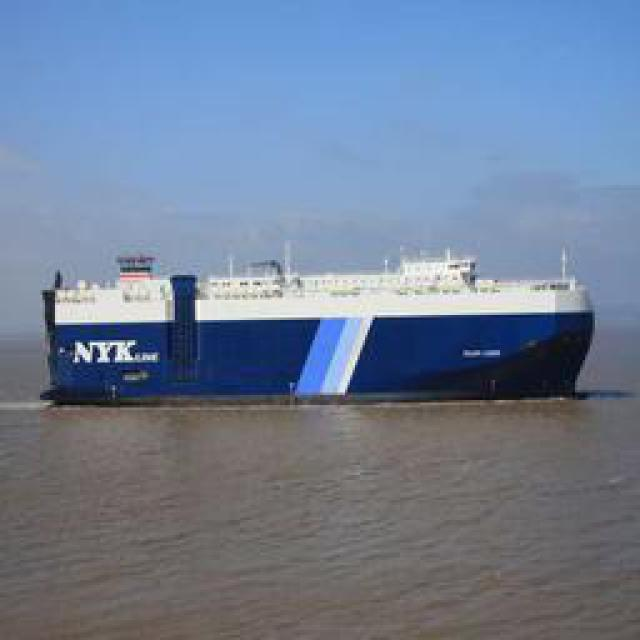Ship: (31, 262, 594, 400)
